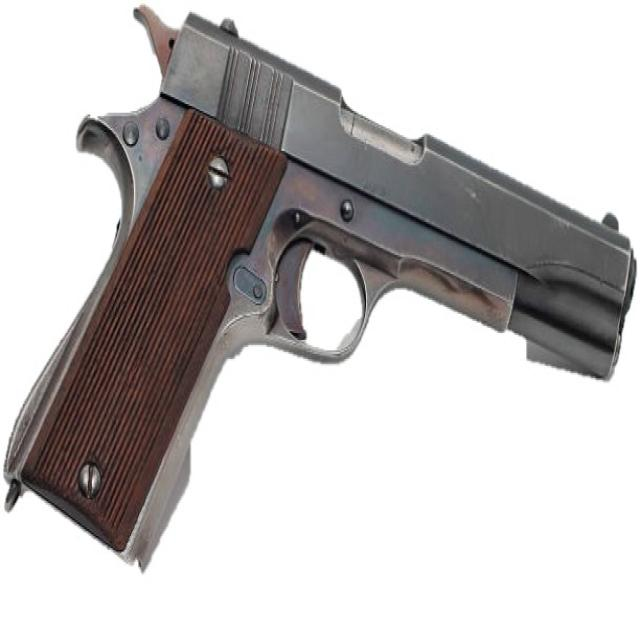pistol: (1, 1, 640, 582)
